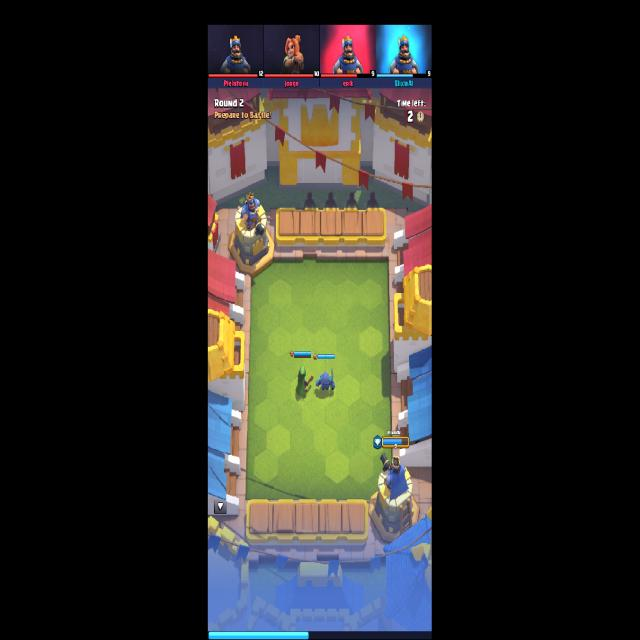bandit: (296, 366, 314, 399)
mini_pekka: (316, 369, 335, 394)
